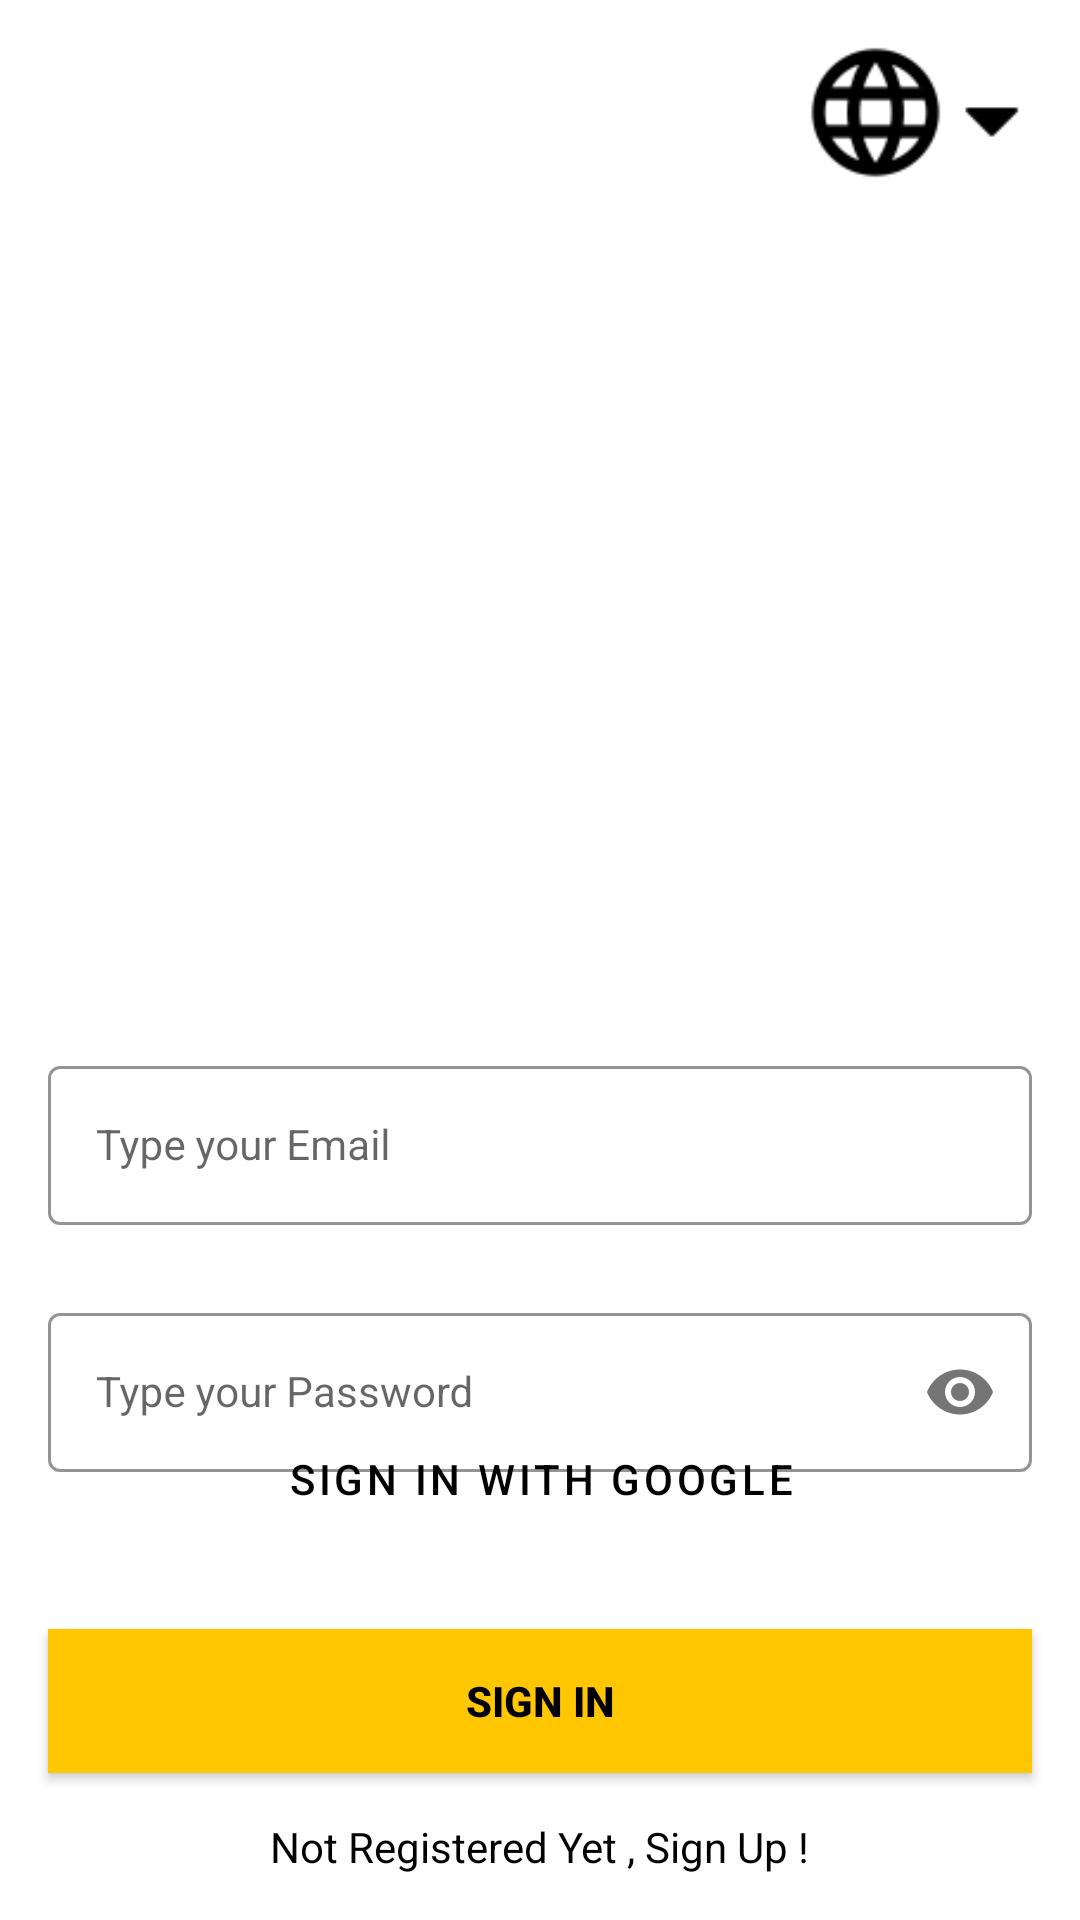

Icon click points for this 1080*1920 phone screenshot, format (x,y):
select lang: (915,112)
